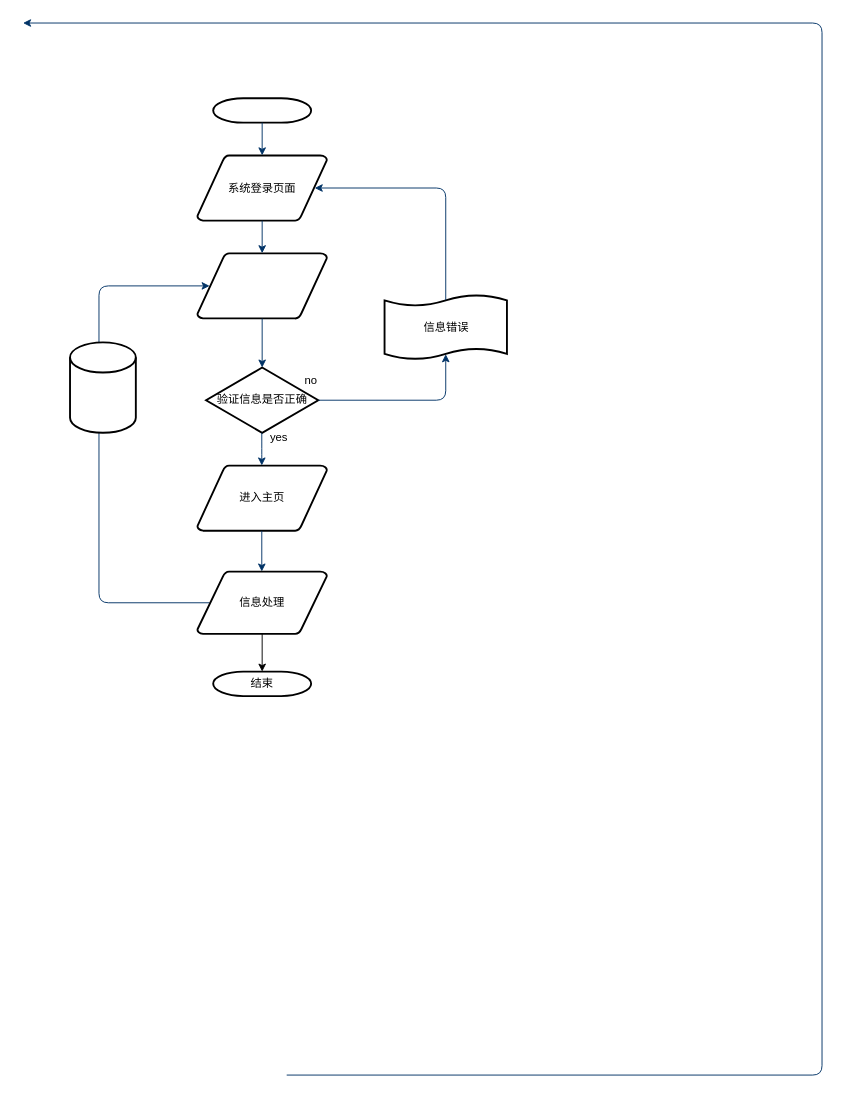
Some shapes in this 846 by 1100 pixel diagram are drawn without their labels. Here are the shapes that lost their labels. From the top down, the box of each, then its label:
(212, 97, 312, 123): 开始
(196, 252, 327, 319): 输入账号、密码、 验证码，点击登录
(69, 341, 136, 433): 数据库
